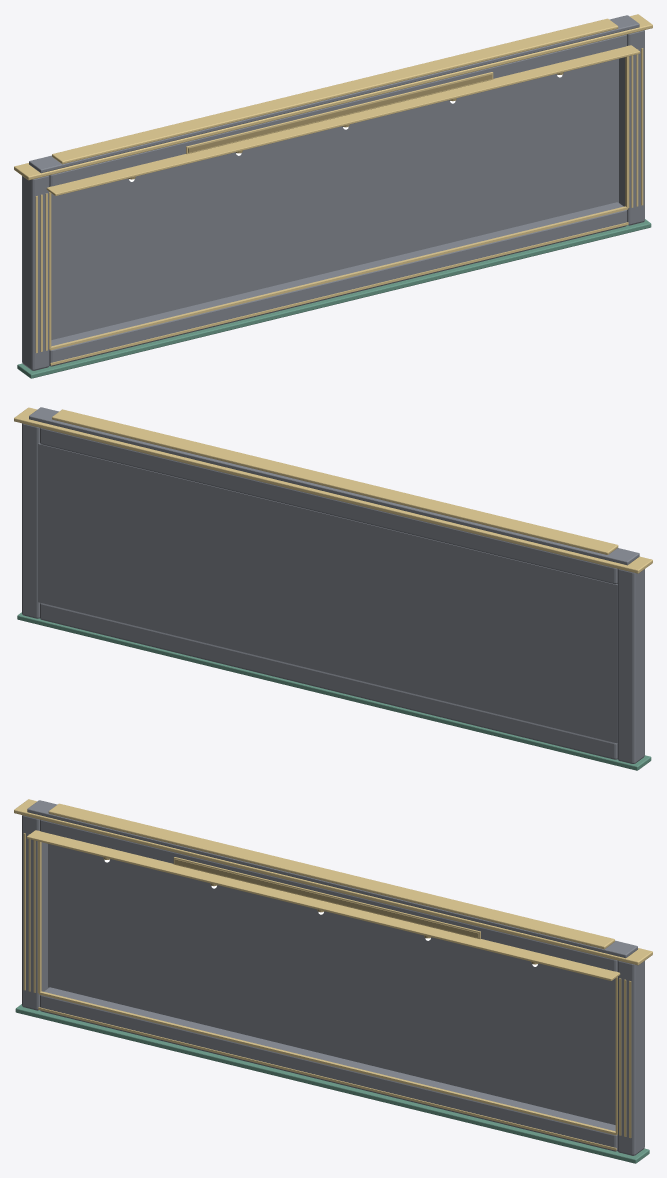
File: prop_board_frame.glb
The picture shows the model from 3 angles, top to bottom: view 1: azimuth 30°, elevation 25°; view 2: azimuth 150°, elevation 25°; view 3: azimuth 330°, elevation 25°; orthographic projection.
Visible parts, largest first — view 1: Frame; view 2: Frame; view 3: Frame.
Part boxes in pixels (x1=…): Frame: x1=14, y1=14, x2=652, y2=378; Frame: x1=14, y1=407, x2=652, y2=770; Frame: x1=14, y1=799, x2=652, y2=1163.
Size of the model in its own units: 8.76 by 2.8 by 0.53.
